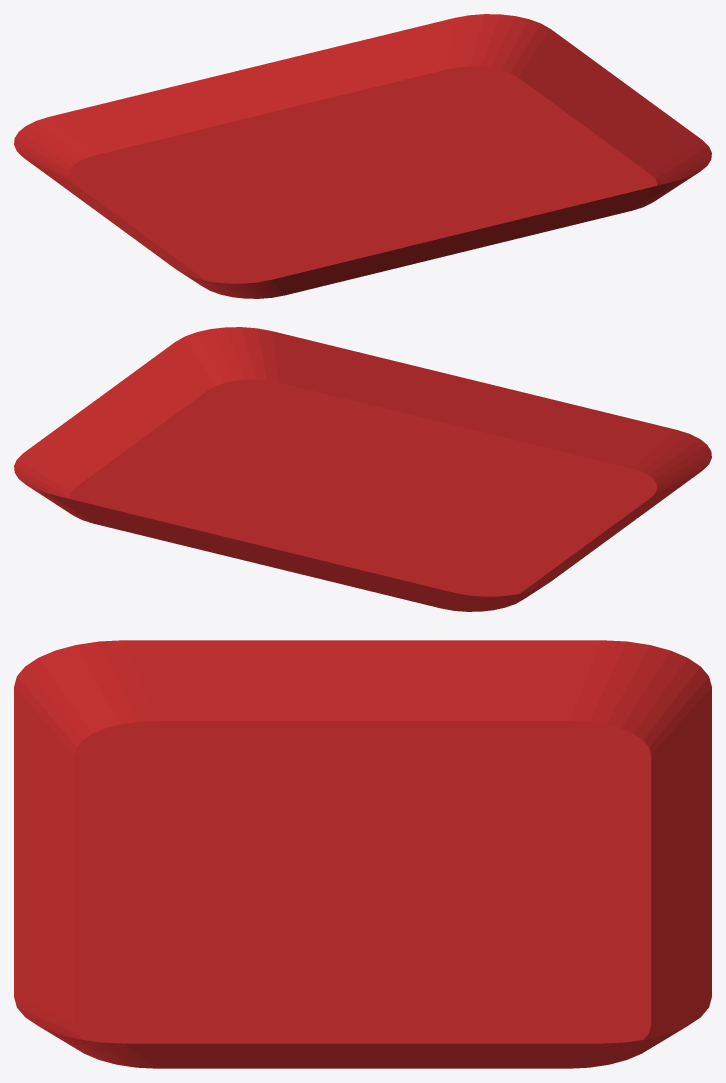
Rendered from Tray.FBX.
The picture shows the model from 3 angles, top to bottom: view 1: azimuth 30°, elevation 25°; view 2: azimuth 150°, elevation 25°; view 3: azimuth 270°, elevation 25°; orthographic projection. The views are drawn at different scales.
Visible parts, largest first — view 1: Tray; view 2: Tray; view 3: Tray.
Part boxes in pixels (x1,y1,x2,y2): Tray: (14,14,711,298); Tray: (14,327,711,611); Tray: (14,640,711,1068).
Bounding box in the file's own units: 225 × 13.96 × 165.
